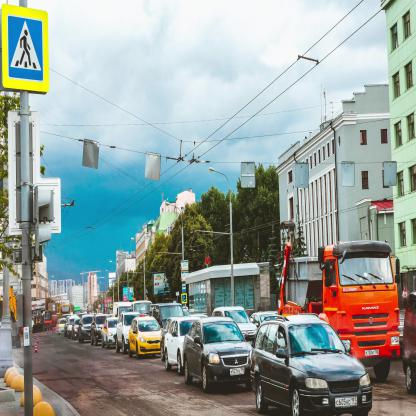car: (250, 314, 373, 416), (183, 318, 251, 392), (212, 309, 257, 349), (128, 317, 164, 359), (115, 313, 139, 352), (91, 314, 110, 347), (101, 318, 118, 348), (79, 314, 95, 344), (72, 319, 80, 341)
truck: (278, 241, 400, 383)
